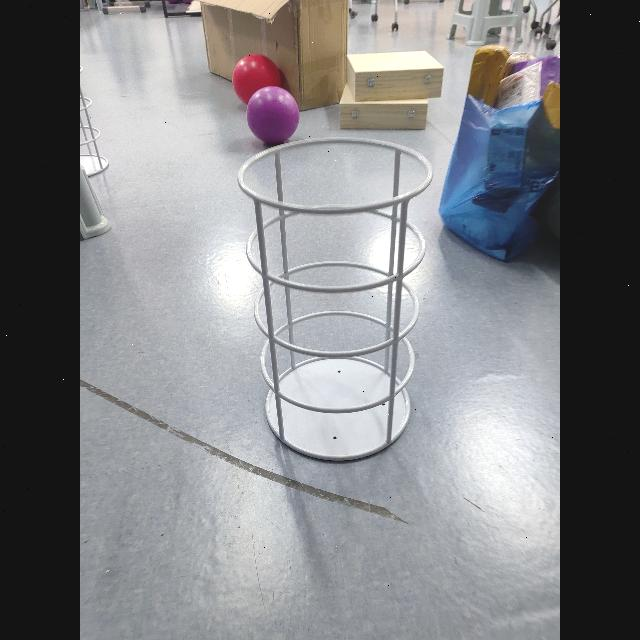S: (234, 134, 436, 468)
